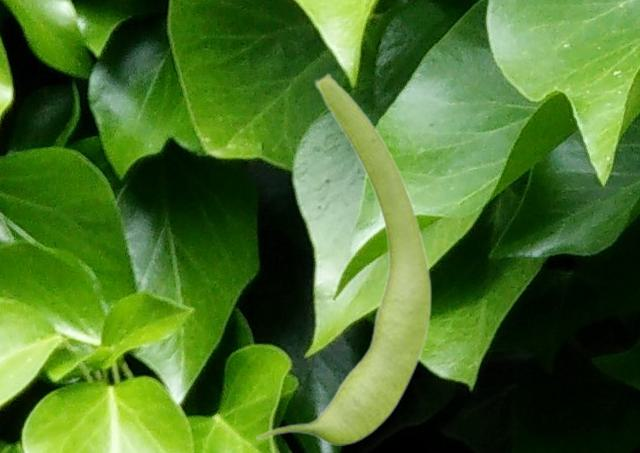french_bean: (254, 71, 432, 444)
